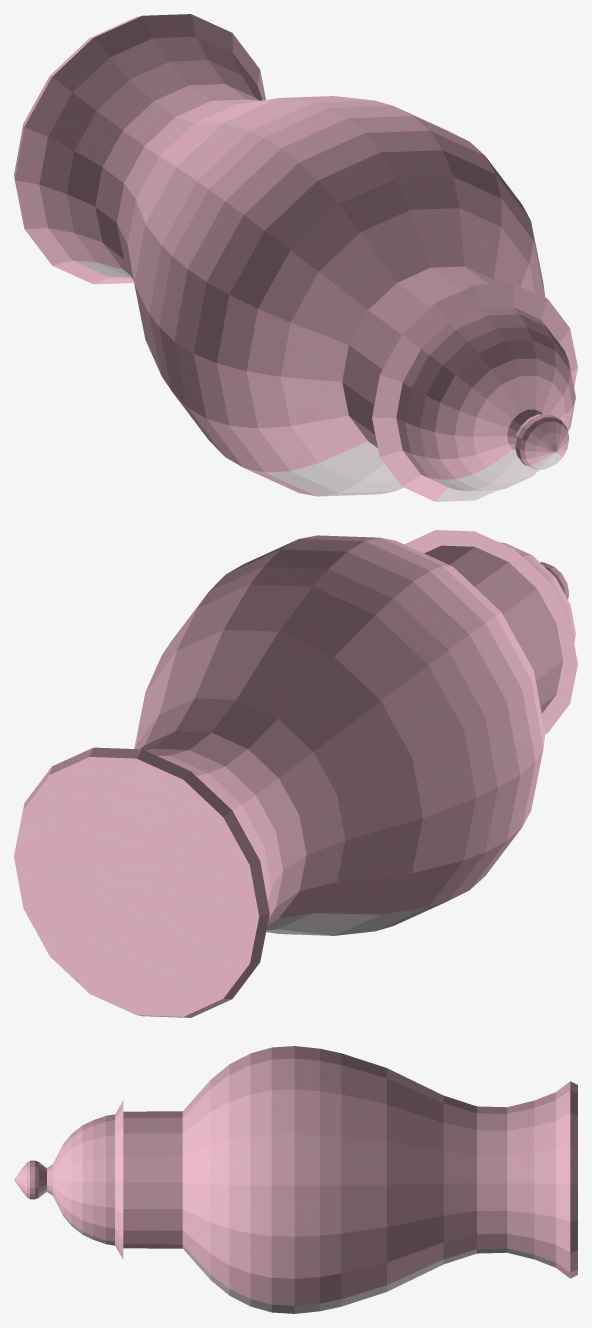
The model's file is model_align.obj.
3 renders of one model, top to bottom at view 1: azimuth 30°, elevation 25°; view 2: azimuth 150°, elevation 25°; view 3: azimuth 270°, elevation 25°, orthographic. The views are drawn at different scales.
Parts seen in each view (by area): view 1: mesh1_mesh1-geometry; view 2: mesh1_mesh1-geometry; view 3: mesh1_mesh1-geometry.
Boxes of the visible parts, box(x1,y1,x2,y2) form: mesh1_mesh1-geometry: box(14, 14, 577, 501); mesh1_mesh1-geometry: box(14, 530, 577, 1017); mesh1_mesh1-geometry: box(14, 1046, 577, 1313).
Size of the model in its own units: 0.1172 by 0.1172 by 0.2465.
